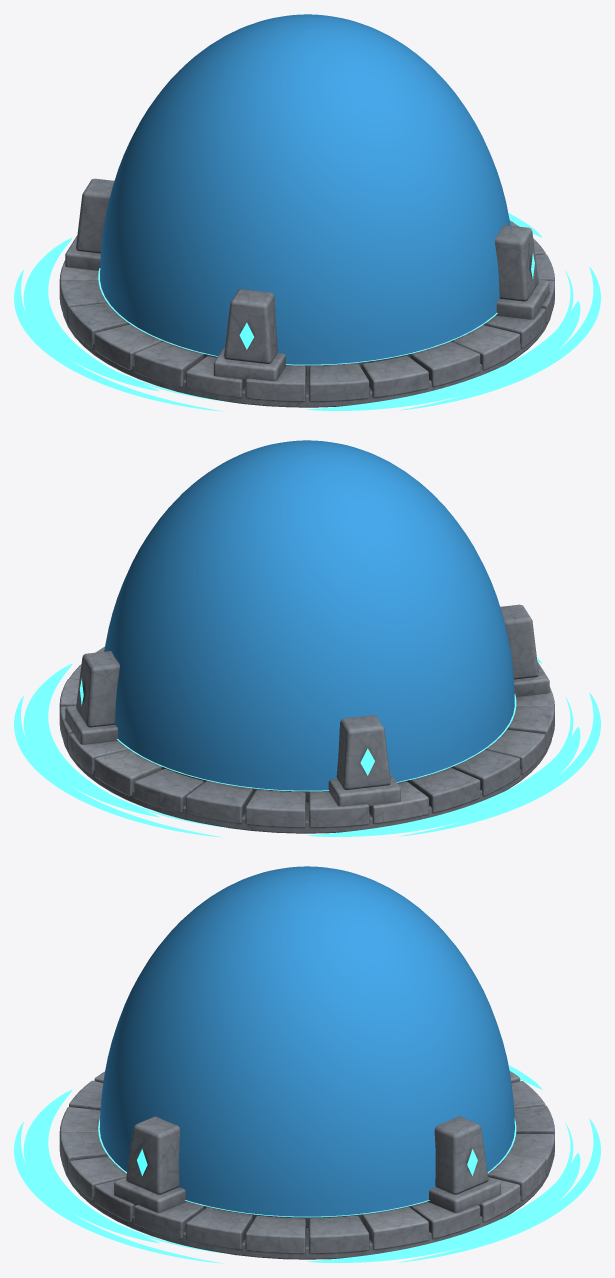
The model's file is SoulSphereIceDome.fbx.
The picture shows the model from 3 angles, top to bottom: view 1: azimuth 30°, elevation 25°; view 2: azimuth 150°, elevation 25°; view 3: azimuth 270°, elevation 25°; orthographic projection.
Parts seen in each view (by area): view 1: Dome, StoneBase, OrbitingWave, Energy; view 2: Dome, StoneBase, OrbitingWave, Energy; view 3: Dome, StoneBase, OrbitingWave, Energy.
Part boxes in pixels (left/top/right/bottom): Dome: left=100, top=14, right=510, bottom=365; StoneBase: left=59, top=178, right=554, bottom=407; OrbitingWave: left=14, top=213, right=600, bottom=411; Energy: left=98, top=253, right=534, bottom=365; Dome: left=104, top=440, right=514, bottom=791; StoneBase: left=59, top=604, right=554, bottom=833; OrbitingWave: left=14, top=658, right=600, bottom=837; Energy: left=79, top=679, right=516, bottom=791; Dome: left=99, top=866, right=514, bottom=1217; StoneBase: left=59, top=1071, right=554, bottom=1259; OrbitingWave: left=14, top=1065, right=600, bottom=1263; Energy: left=98, top=1118, right=516, bottom=1217.
Bounding box in the file's own units: 3.42 × 1.81 × 3.51.
5 materials, 1 textured.
